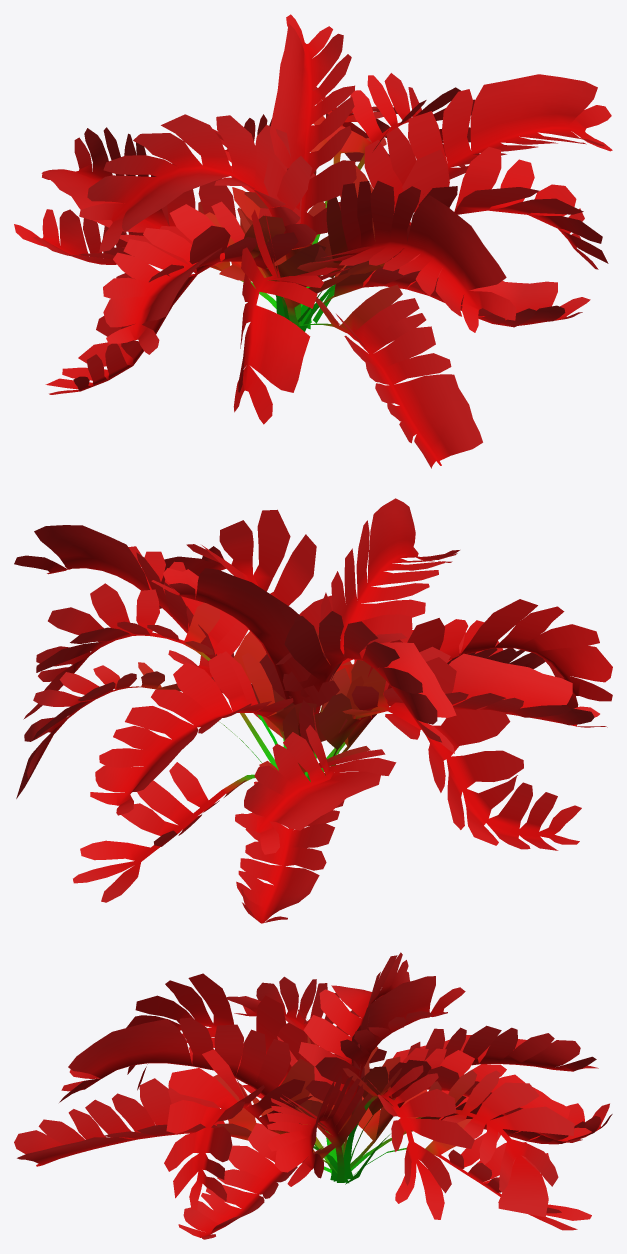
Rendered from Var5_LOD0.fbx.
The picture shows the model from 3 angles, top to bottom: view 1: azimuth 30°, elevation 25°; view 2: azimuth 150°, elevation 25°; view 3: azimuth 270°, elevation 25°; orthographic projection. The views are drawn at different scales.
Visible parts, largest first — view 1: _625a_Var5_LOD0; view 2: _625a_Var5_LOD0; view 3: _625a_Var5_LOD0.
Boxes of the visible parts, <box> form: _625a_Var5_LOD0: <box>14,14,612,468</box>; _625a_Var5_LOD0: <box>14,498,612,923</box>; _625a_Var5_LOD0: <box>14,952,612,1239</box>.
Size of the model in its own units: 158 by 73.11 by 168.
